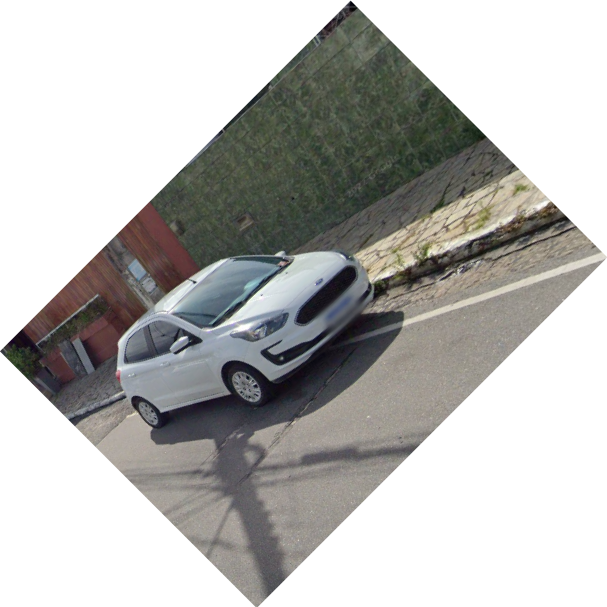car: (112, 249, 386, 432)
